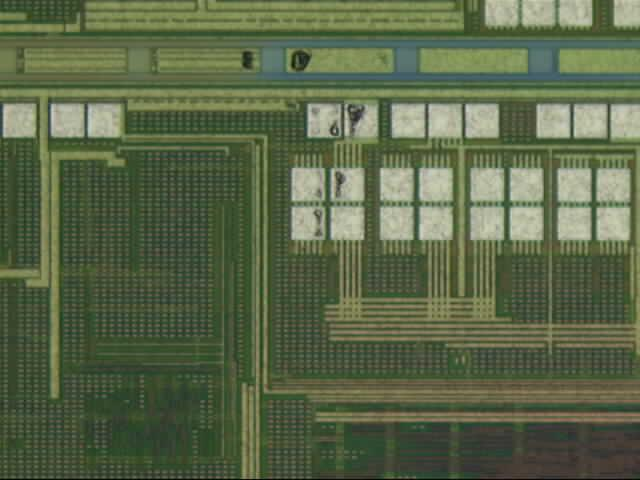PO CONTAMINATION: (236, 48, 368, 243)
